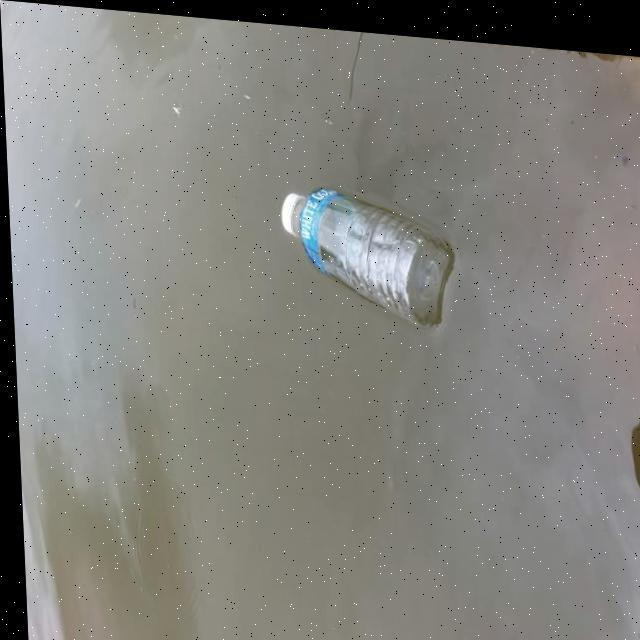waterbottle: (261, 156, 500, 339)
